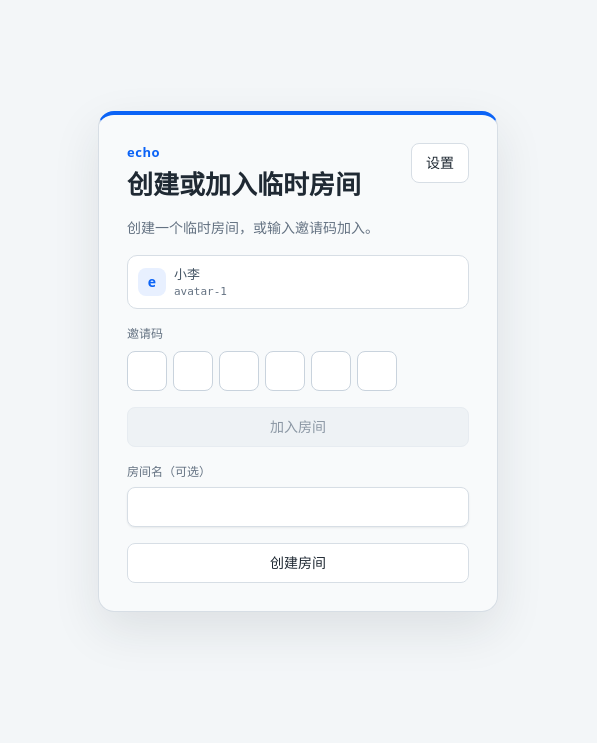
Test: App local settings entry › keeps saved users on settings form while nickname edits are unsaved
Click the button "设置" at (440, 162), box [411,142,469,182]
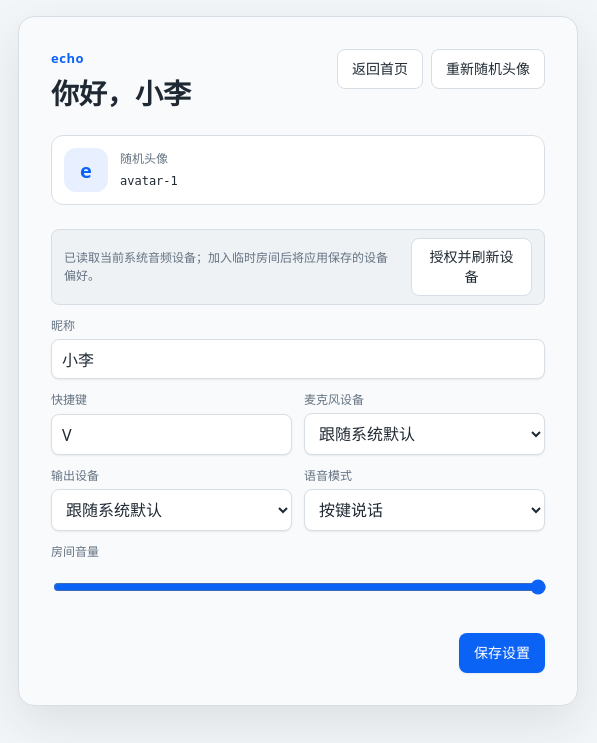
expect the button "保存设置" is shown: met, box [459,633,545,673]
expect the heading "你好，小李" is shown: met, box [51,75,191,111]
Clear the field labelled "昵称" at (298, 359), box [51,339,545,379]
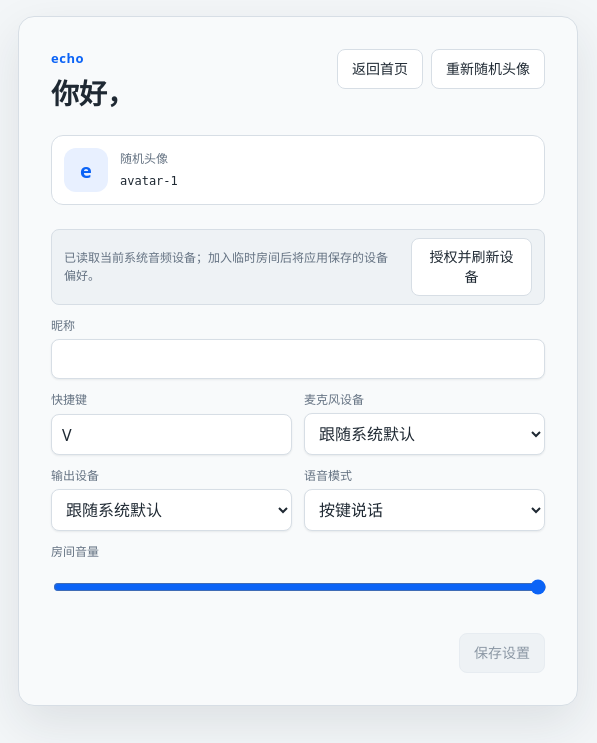
expect the button "保存设置" is disabled: met, box [459,633,545,673]
